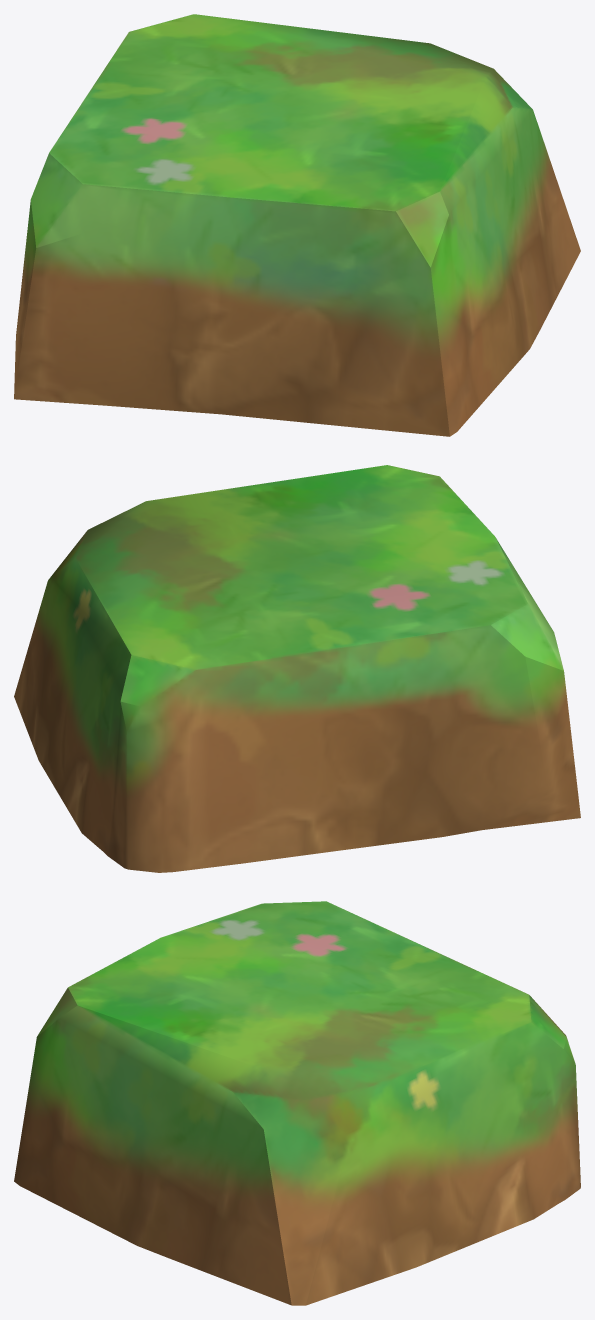
Rendered from prop 2.fbx.
3 renders of one model, top to bottom at view 1: azimuth 30°, elevation 25°; view 2: azimuth 150°, elevation 25°; view 3: azimuth 270°, elevation 25°, orthographic. The views are drawn at different scales.
Visible parts, largest first — view 1: LP_Large_02_0.001; view 2: LP_Large_02_0.001; view 3: LP_Large_02_0.001.
Boxes of the visible parts, x1,y1,x2,y2 form: LP_Large_02_0.001: [14, 14, 580, 436]; LP_Large_02_0.001: [14, 465, 580, 872]; LP_Large_02_0.001: [14, 901, 580, 1305].
Bounding box in the file's own units: 443 × 157 × 428.
